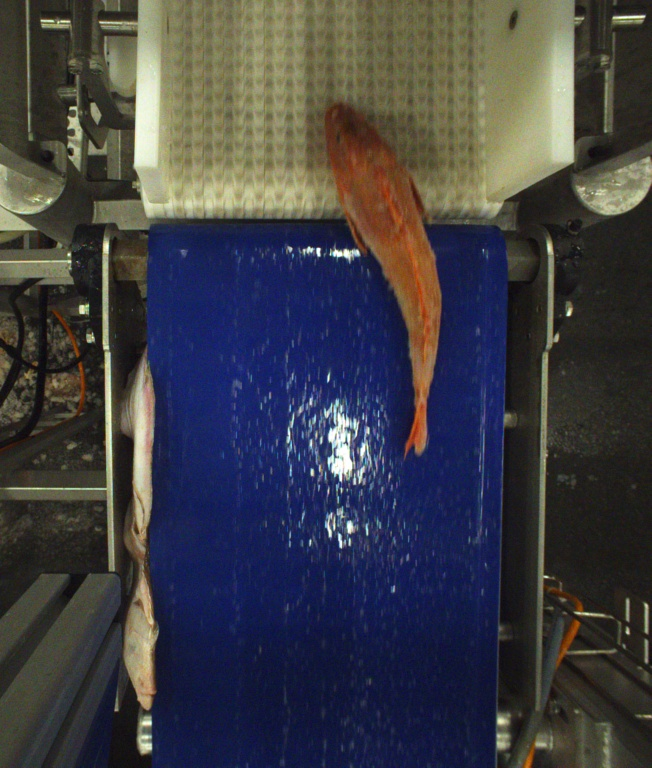GUU: (326, 101, 444, 458)
